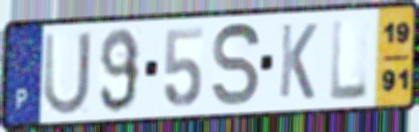5: (162, 24, 205, 109)
9: (98, 26, 141, 115)
K: (276, 21, 319, 102)
L: (329, 16, 370, 104)
S: (210, 20, 263, 110)
U: (42, 29, 94, 118)
